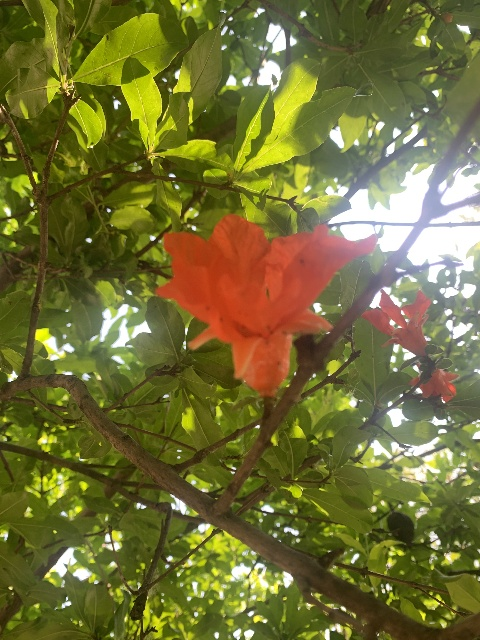bud: (441, 12, 452, 23)
flower: (155, 214, 378, 397), (360, 288, 431, 358), (408, 363, 459, 402)
